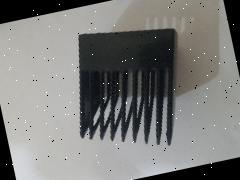plastic: (59, 13, 200, 163)
